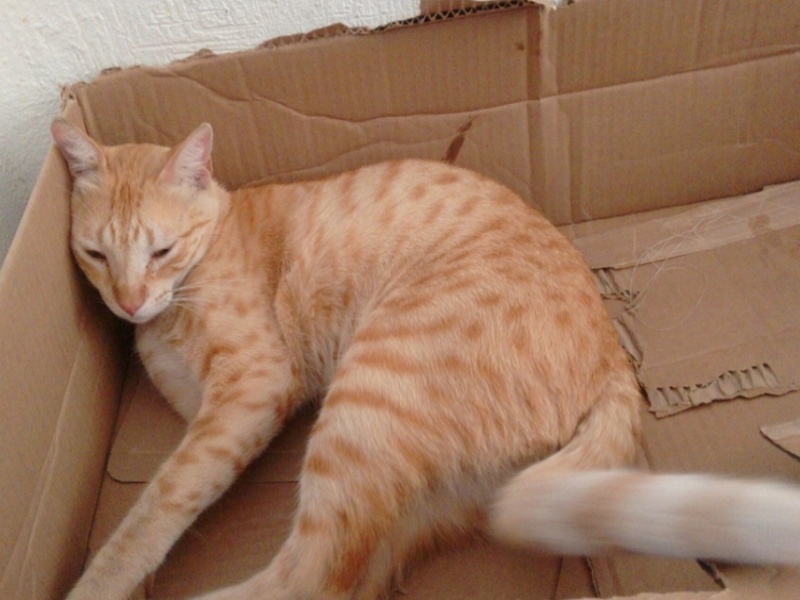cat: (46, 117, 773, 590)
